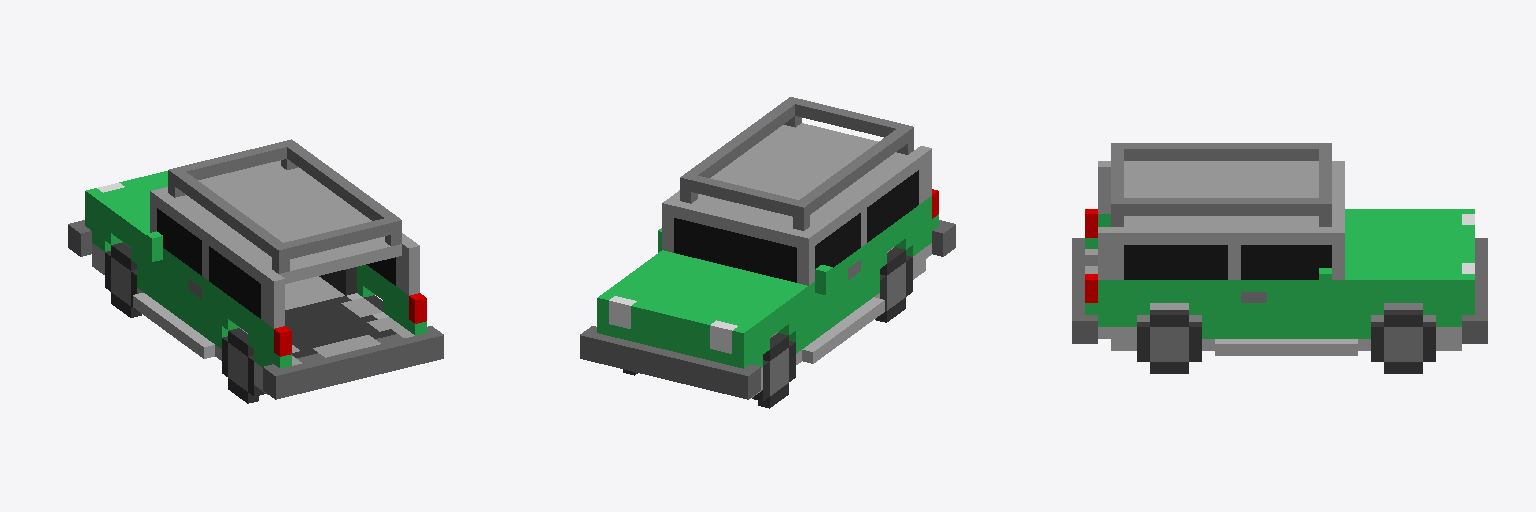
The picture shows the model from 3 angles: view 1: azimuth 30°, elevation 25°; view 2: azimuth 150°, elevation 25°; view 3: azimuth 270°, elevation 25°; orthographic projection.
Visible parts, largest first — view 1: object 1; view 2: object 1; view 3: object 1.
Boxes of the visible parts, x1=… form: object 1: x1=68, y1=139, x2=443, y2=403; object 1: x1=580, y1=97, x2=955, y2=408; object 1: x1=1072, y1=143, x2=1487, y2=373.
Bounding box in the file's own units: 1.5 × 1.4 × 3.2.
Materials: 1 (1 with a texture image).